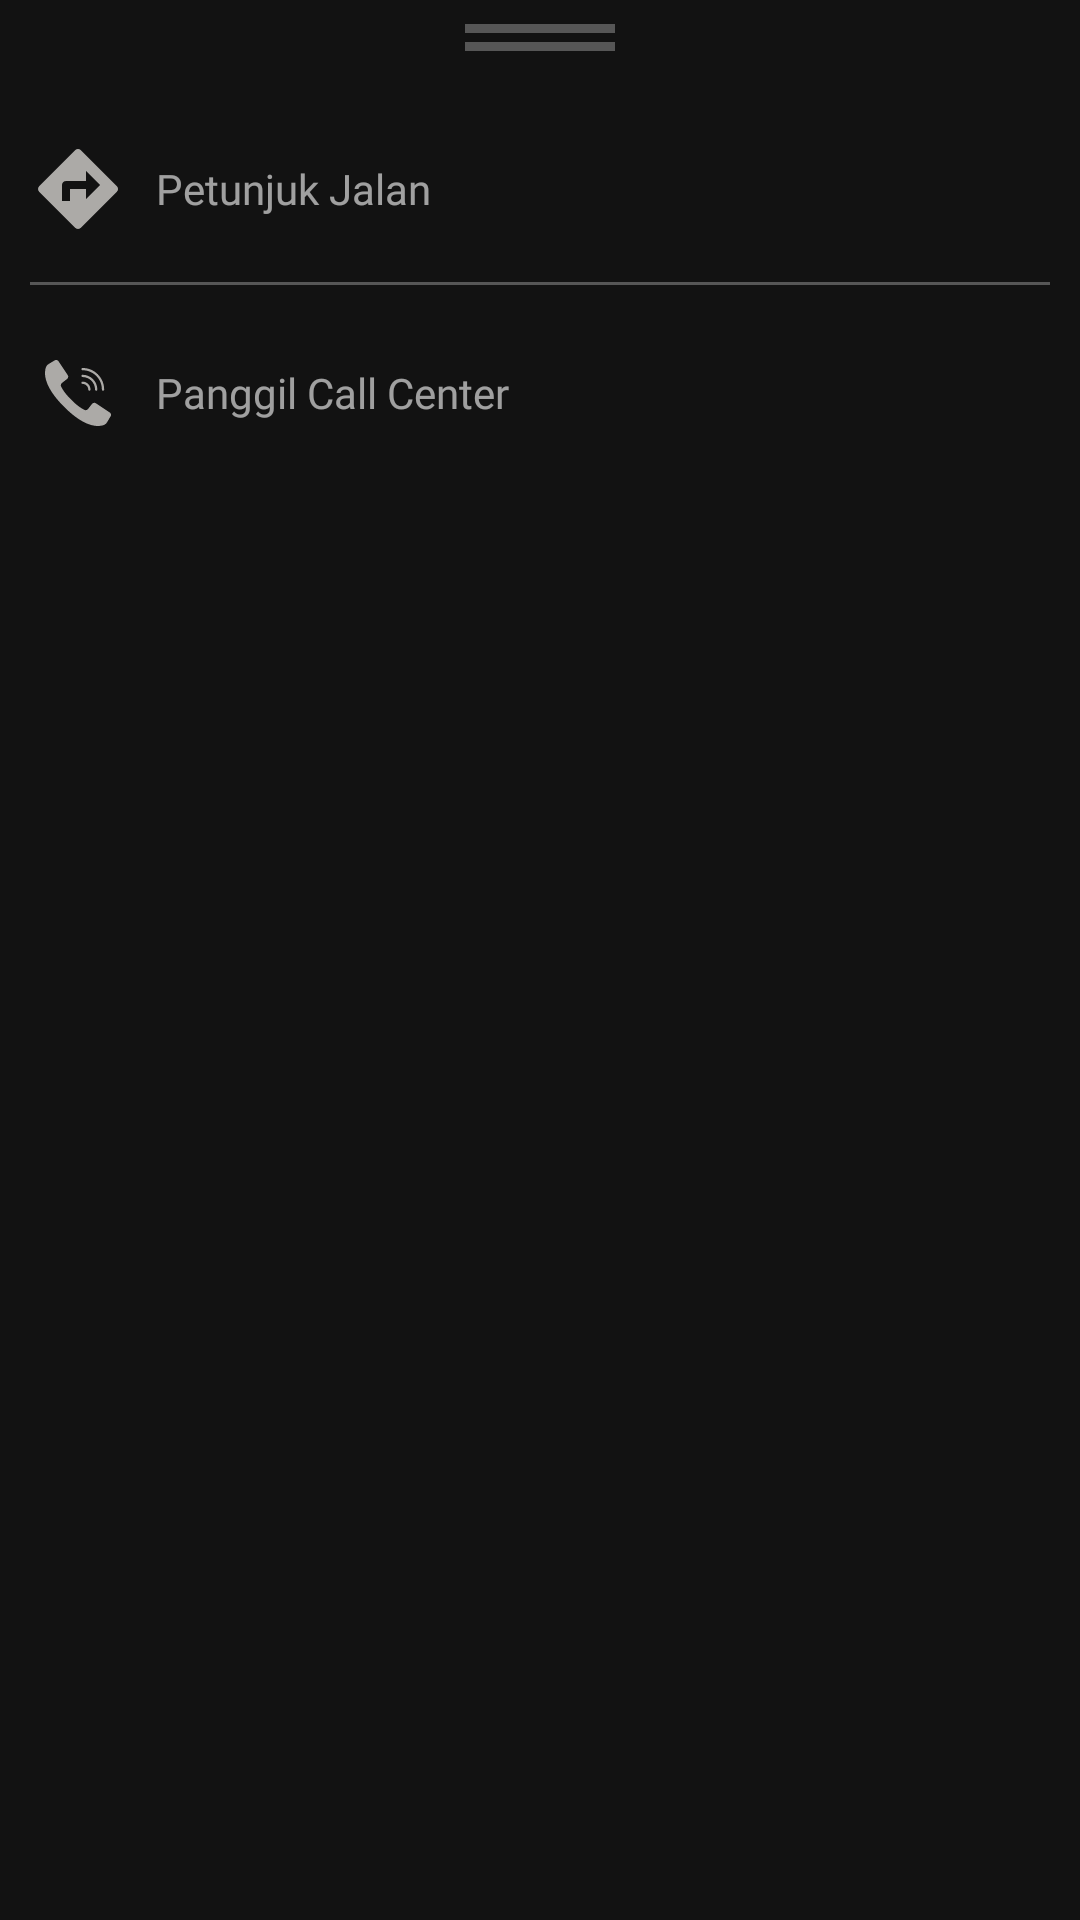

Screen size 1080px×1920px. Icon name, then its center in pixels as point (x, y):
direction: point (78, 189)
